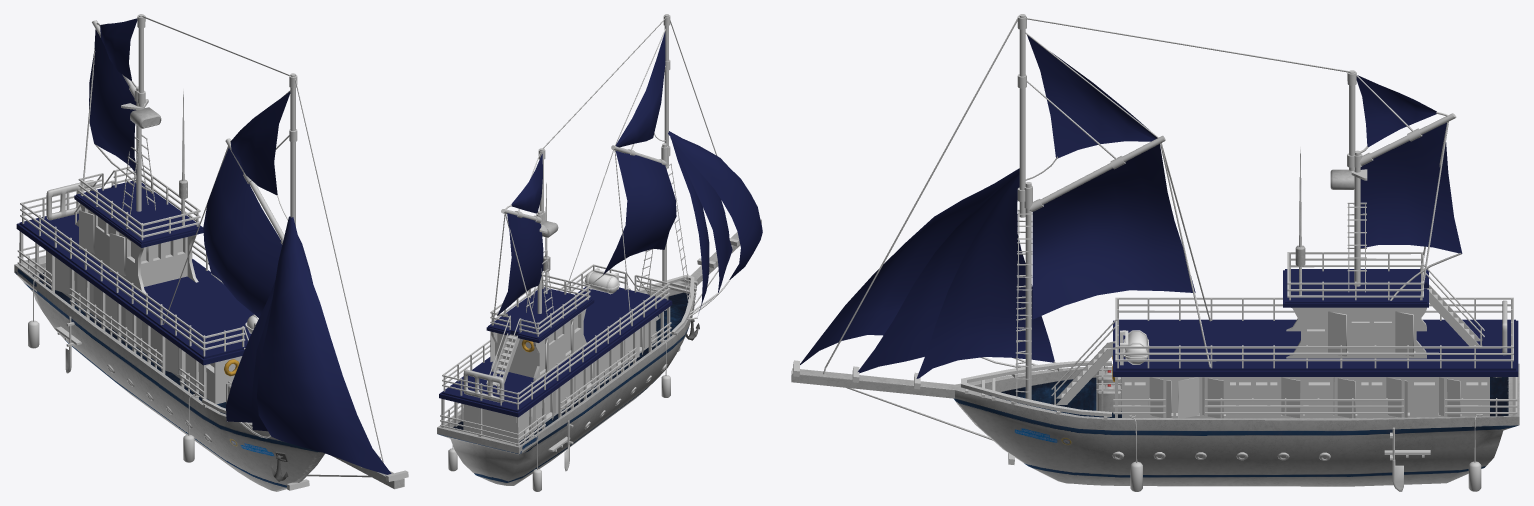
The model's file is ship_unair.fbx.
The picture shows the model from 3 angles, left to right: view 1: azimuth 30°, elevation 25°; view 2: azimuth 150°, elevation 25°; view 3: azimuth 270°, elevation 25°; orthographic projection. The views are drawn at different scales.
Visible parts, largest first — view 1: boat, flag, rope, antenna_donut; view 2: boat, flag, rope, tube_white, antenna_donut; view 3: boat, flag, rope, tube_white.
Part boxes in pixels (x1,y1,x2,y2): boat: [14, 14, 408, 491]; flag: [89, 18, 391, 474]; rope: [81, 16, 383, 477]; antenna_donut: [179, 89, 239, 376]; boat: [437, 14, 761, 491]; flag: [497, 32, 762, 315]; rope: [493, 18, 729, 332]; tube_white: [583, 268, 619, 294]; antenna_donut: [521, 182, 550, 352]; boat: [791, 14, 1519, 491]; flag: [800, 35, 1462, 378]; rope: [823, 18, 1461, 440]; tube_white: [1120, 330, 1148, 365].
Size of the model in its own units: 10.5 by 36.2 by 51.
